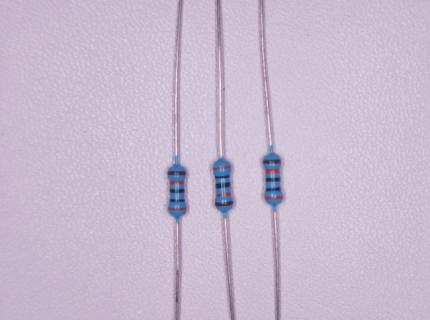Black band: (216, 182, 231, 189), (214, 174, 231, 180), (266, 186, 282, 192), (169, 188, 184, 194), (266, 177, 281, 183), (169, 197, 185, 202)
Brown band: (215, 201, 234, 207), (167, 171, 186, 176), (262, 159, 281, 164)
Orange band: (213, 165, 232, 171), (168, 206, 187, 211), (216, 192, 231, 198), (265, 168, 280, 174), (168, 180, 184, 185), (264, 196, 283, 200)
